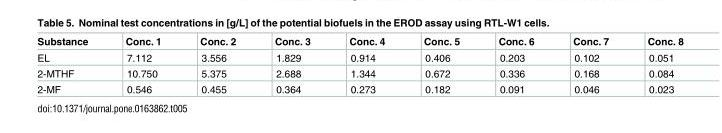table: (36, 36, 682, 94)
table column: (254, 36, 329, 94), (403, 36, 478, 94), (552, 36, 627, 94), (106, 36, 180, 94), (180, 36, 254, 94), (329, 36, 403, 94), (478, 36, 552, 94), (36, 36, 106, 94), (627, 36, 682, 94)
table column header: (36, 36, 682, 49)
table row: (36, 49, 682, 65), (36, 65, 682, 81), (36, 36, 682, 49), (36, 81, 682, 94)
